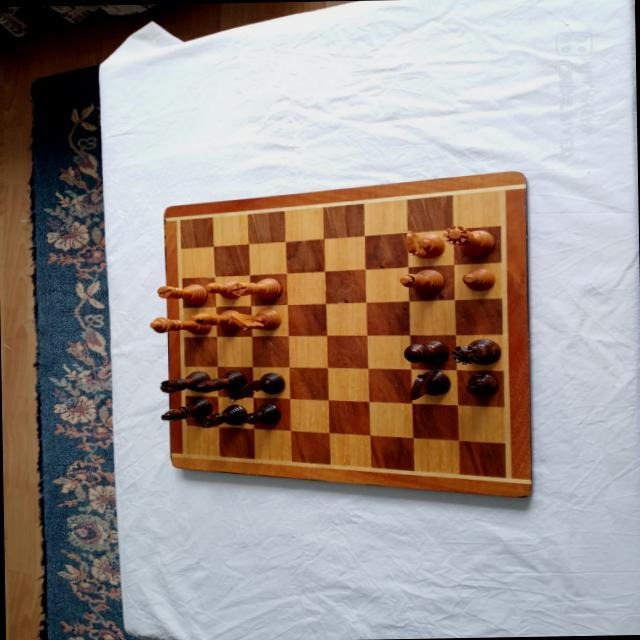black-bishop: (159, 398, 211, 424), (194, 369, 246, 395)
black-king: (401, 336, 447, 363)
black-knight: (224, 370, 284, 398), (404, 365, 450, 400)
black-pawn: (242, 400, 280, 425)
black-queen: (450, 335, 502, 365)
black-rook: (196, 401, 248, 426), (159, 372, 205, 393), (465, 371, 499, 397)
white-bishop: (398, 267, 445, 296), (190, 308, 242, 331)
white-king: (150, 312, 210, 336)
white-knight: (229, 306, 283, 331), (401, 229, 443, 259)
white-pawn: (462, 266, 496, 290), (204, 279, 240, 300)
white-queen: (441, 221, 496, 258)
white-rook: (156, 280, 208, 307), (229, 275, 283, 300)
